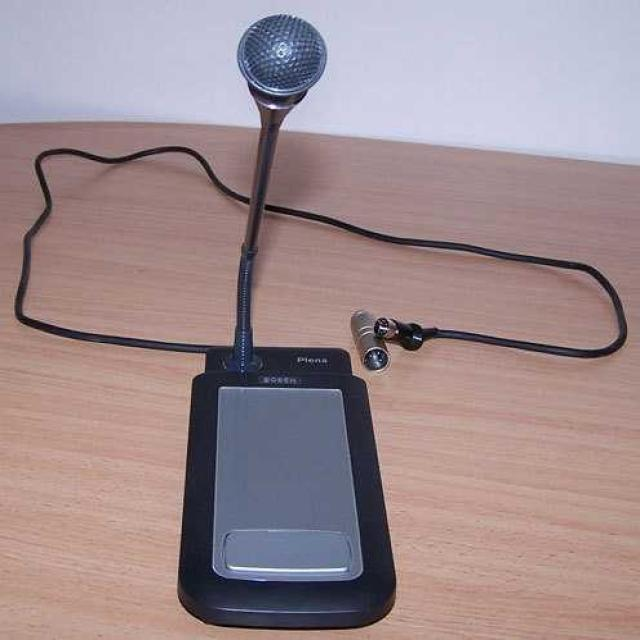microphone: (229, 16, 367, 168)
